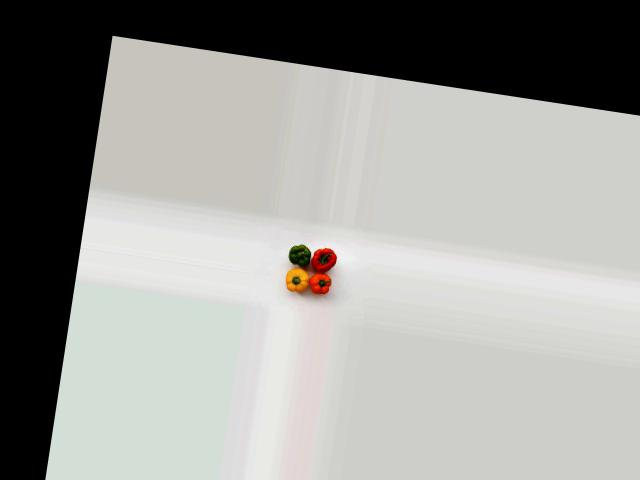bell_pepper: (280, 240, 318, 270)
